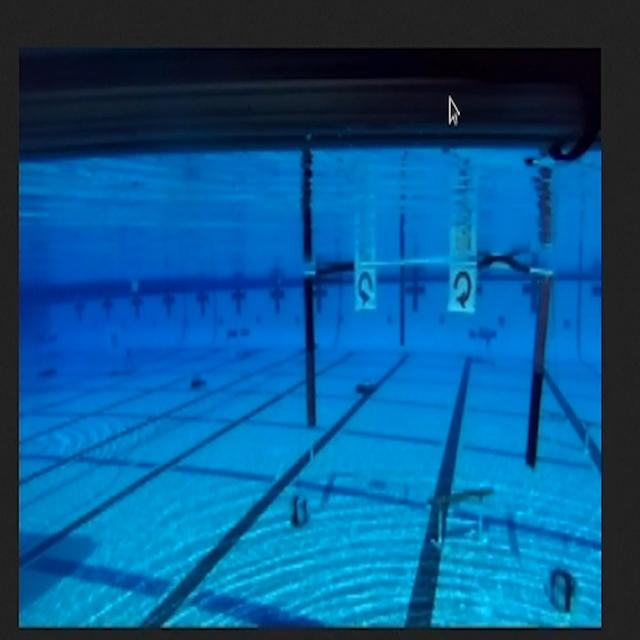Gate: (297, 266, 556, 472)
